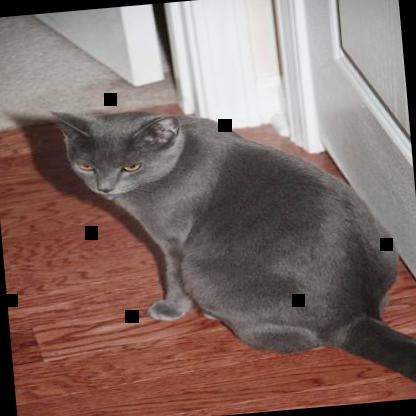cat: (48, 79, 415, 415)
